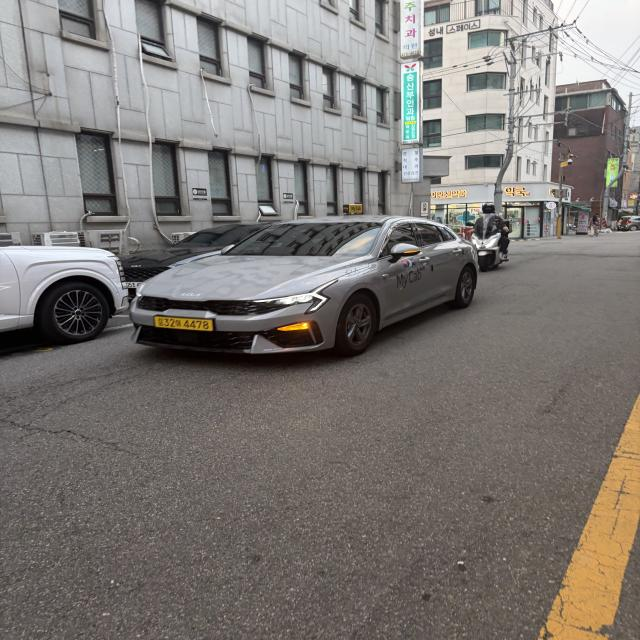car: (87, 202, 490, 373)
